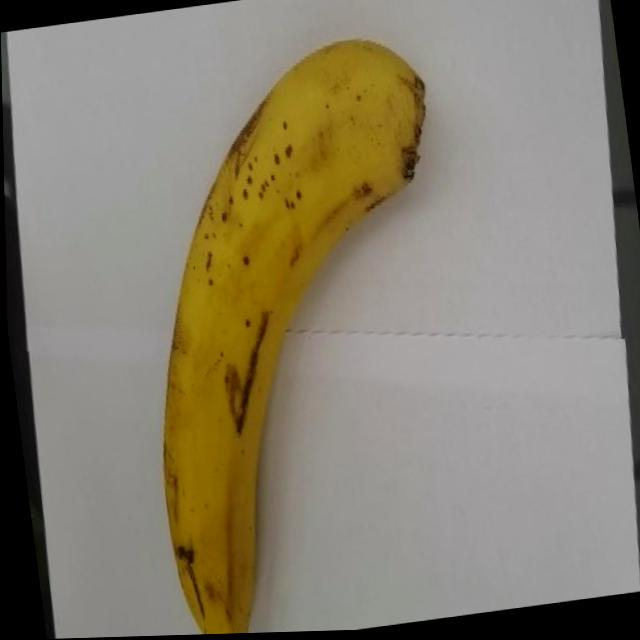Banana: (108, 27, 494, 638)
